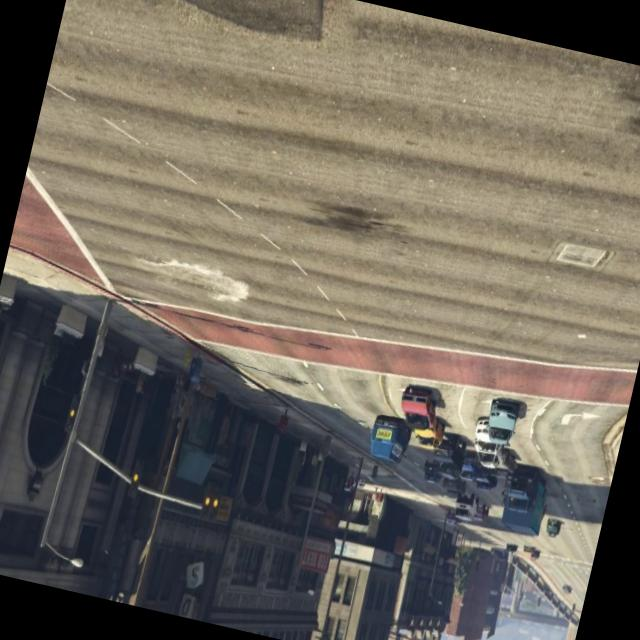Yellow-Signal: (193, 468, 230, 530), (56, 379, 86, 444), (122, 446, 150, 504)
